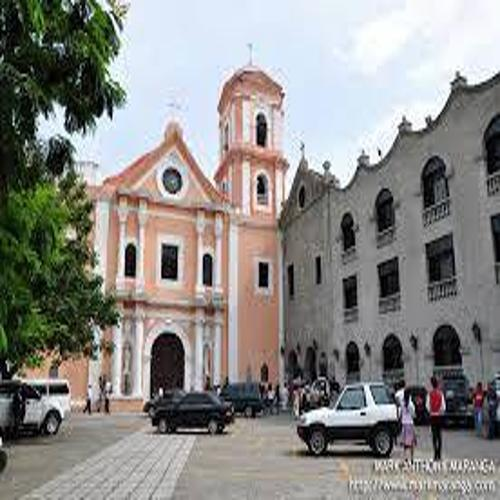San Agustin Church: (77, 29, 290, 423)
